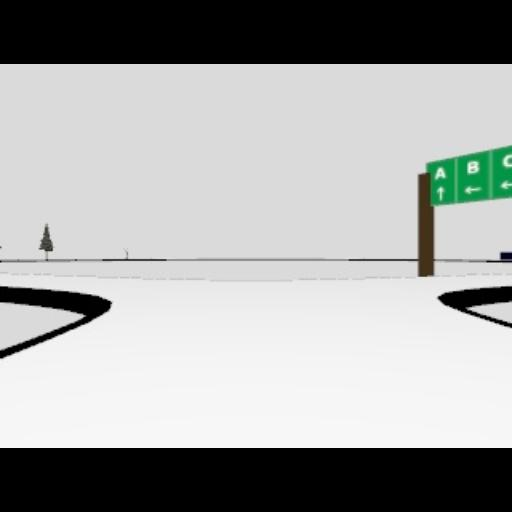A: (434, 168, 446, 180)
B: (466, 162, 480, 174)
C: (501, 153, 512, 168)
Left: (499, 179, 512, 190)
Straight: (436, 187, 446, 201)
